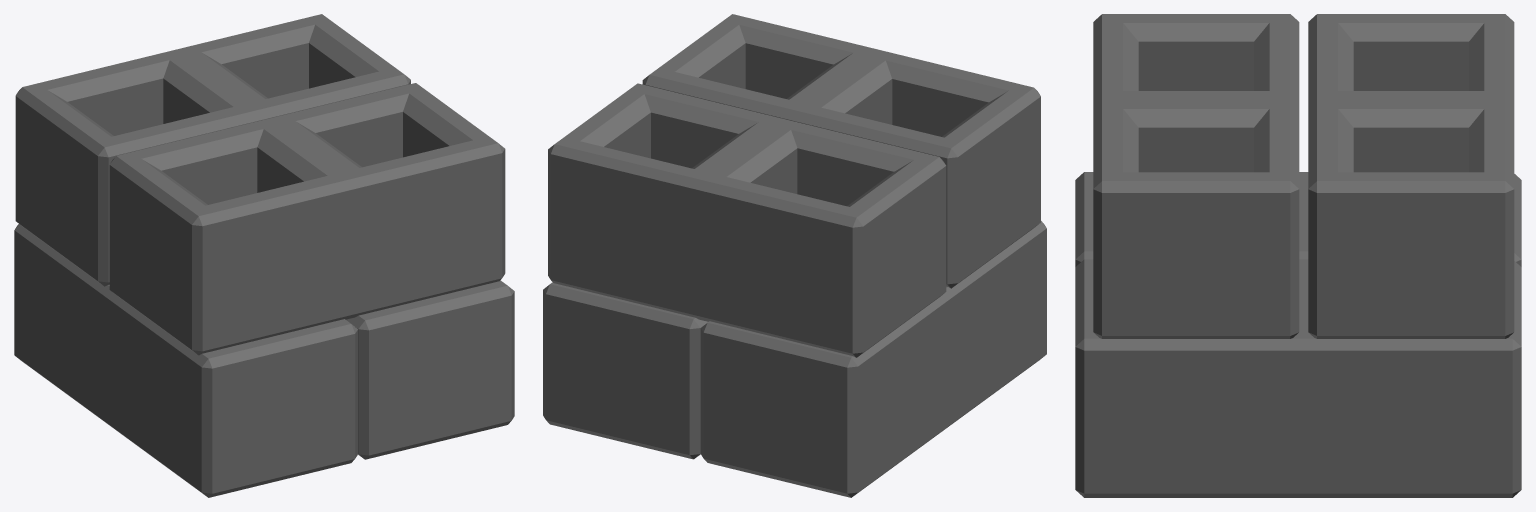
Rendered from props_31.glb.
3 renders of one model, left to right at view 1: azimuth 30°, elevation 25°; view 2: azimuth 150°, elevation 25°; view 3: azimuth 270°, elevation 25°, orthographic. The views are drawn at different scales.
Visible parts, largest first — view 1: props_31; view 2: props_31; view 3: props_31.
Part boxes in pixels (x1,y1,x2,y2): props_31: (14, 14, 514, 497); props_31: (543, 14, 1046, 497); props_31: (1075, 14, 1521, 497).
Size of the model in its own units: 0.5175 by 0.4343 by 0.5558.
1 material, 1 textured.
